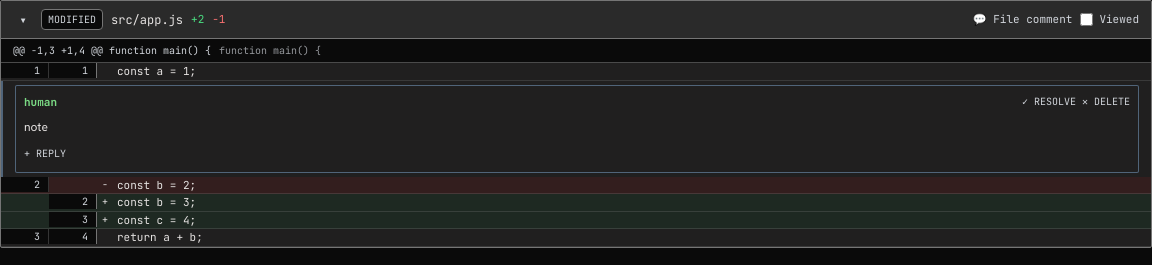
Scenario: DiffView › collapses the diff and reports the number of line threads
Click the button named "Collapse file diff" at (23, 20), box [13,12,33,28]
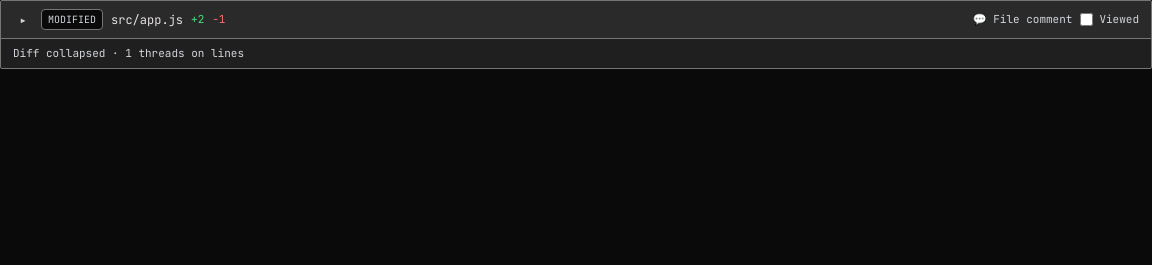
expect the text "Diff collapsed · 1 threads on lines" is shown: met, box [13,46,244,60]
expect the text "@@ -1,3 +1,4 @@" is gone: met
